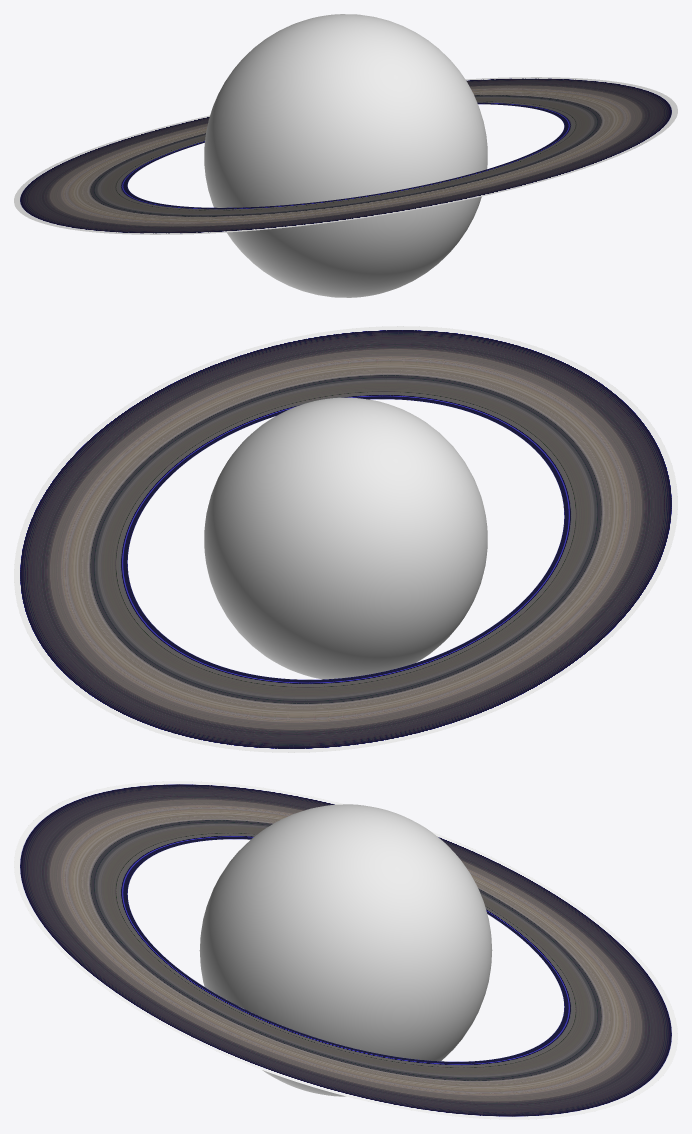
File: saturn.fbx
The picture shows the model from 3 angles, top to bottom: view 1: azimuth 30°, elevation 25°; view 2: azimuth 150°, elevation 25°; view 3: azimuth 270°, elevation 25°; orthographic projection. The views are drawn at different scales.
Parts seen in each view (by area): view 1: Saturn, Ring; view 2: Ring, Saturn; view 3: Ring, Saturn.
Boxes of the visible parts, <box> form: Saturn: <box>204,14,487,297</box>; Ring: <box>14,77,677,234</box>; Ring: <box>14,326,677,752</box>; Saturn: <box>204,397,487,679</box>; Ring: <box>14,781,677,1119</box>; Saturn: <box>199,804,492,1096</box>.
Bounding box in the file's own units: 472 × 200 × 454.
2 materials, 1 textured.
